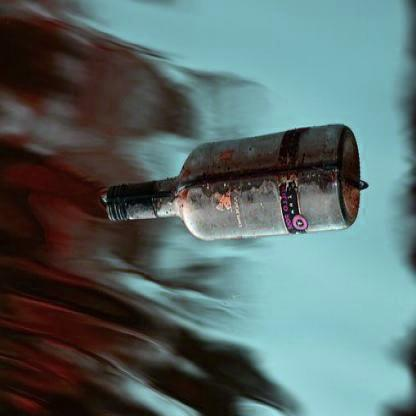Glass: (103, 142, 362, 243)
